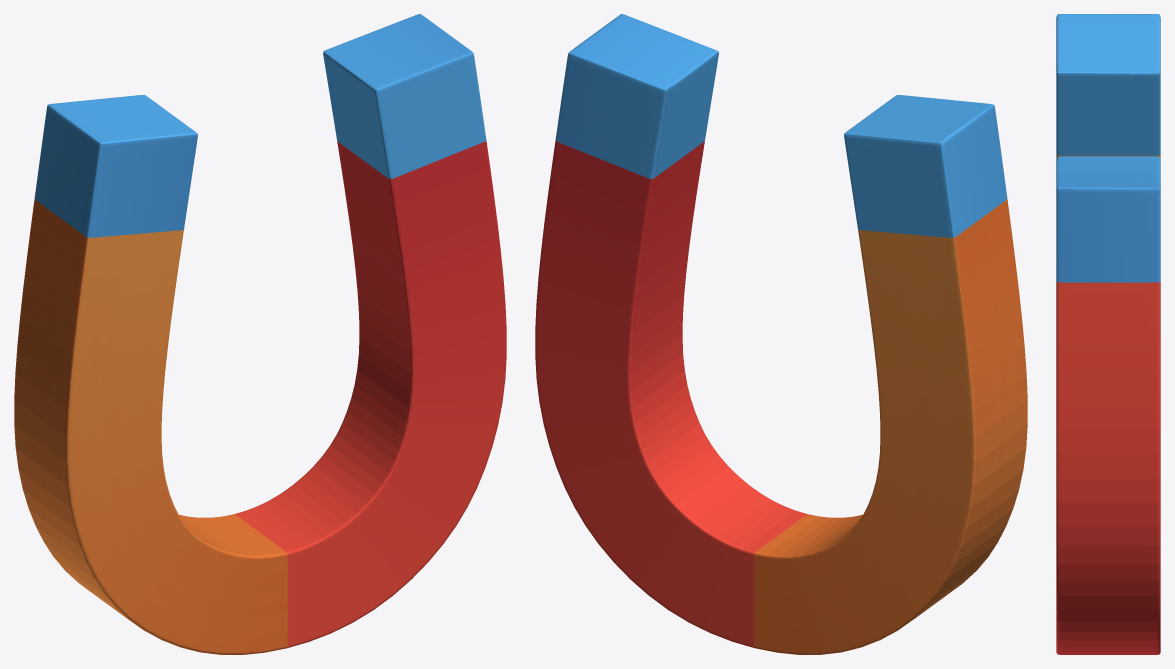
File: Magnet.fbx
3 renders of one model, left to right at view 1: azimuth 30°, elevation 25°; view 2: azimuth 150°, elevation 25°; view 3: azimuth 270°, elevation 25°, orthographic. The views are drawn at different scales.
Parts seen in each view (by area): view 1: Magnet; view 2: Magnet; view 3: Magnet.
Boxes of the visible parts, box(x1,y1,x2,y2) form: Magnet: box(14, 14, 506, 654); Magnet: box(535, 14, 1027, 654); Magnet: box(1056, 14, 1160, 654).
Size of the model in its own units: 75.88 by 90.75 by 16.22.
Materials: 1 (1 with a texture image).
